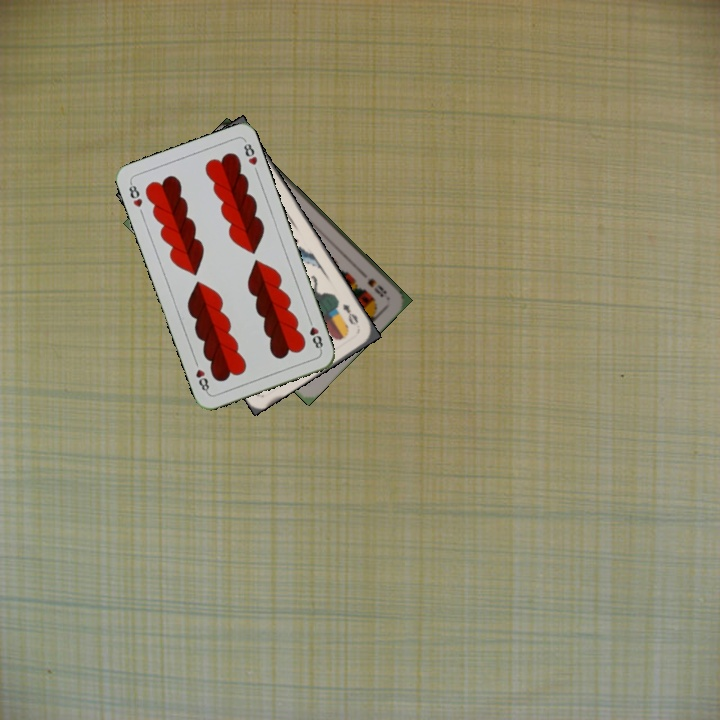EO: (338, 300, 361, 328)
H8: (304, 314, 325, 354), (125, 178, 145, 210)
S8: (363, 274, 389, 300)
